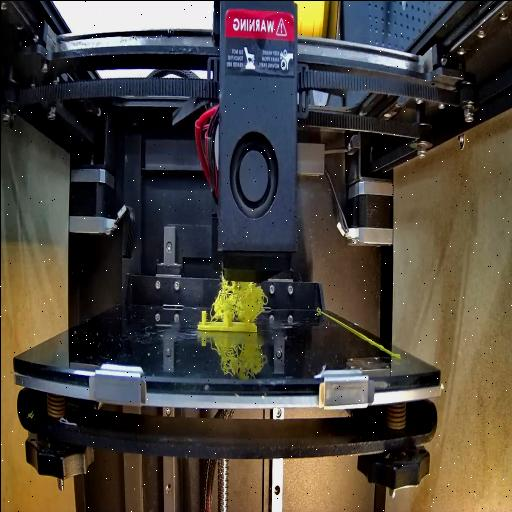spaghetti: (208, 273, 268, 319)
